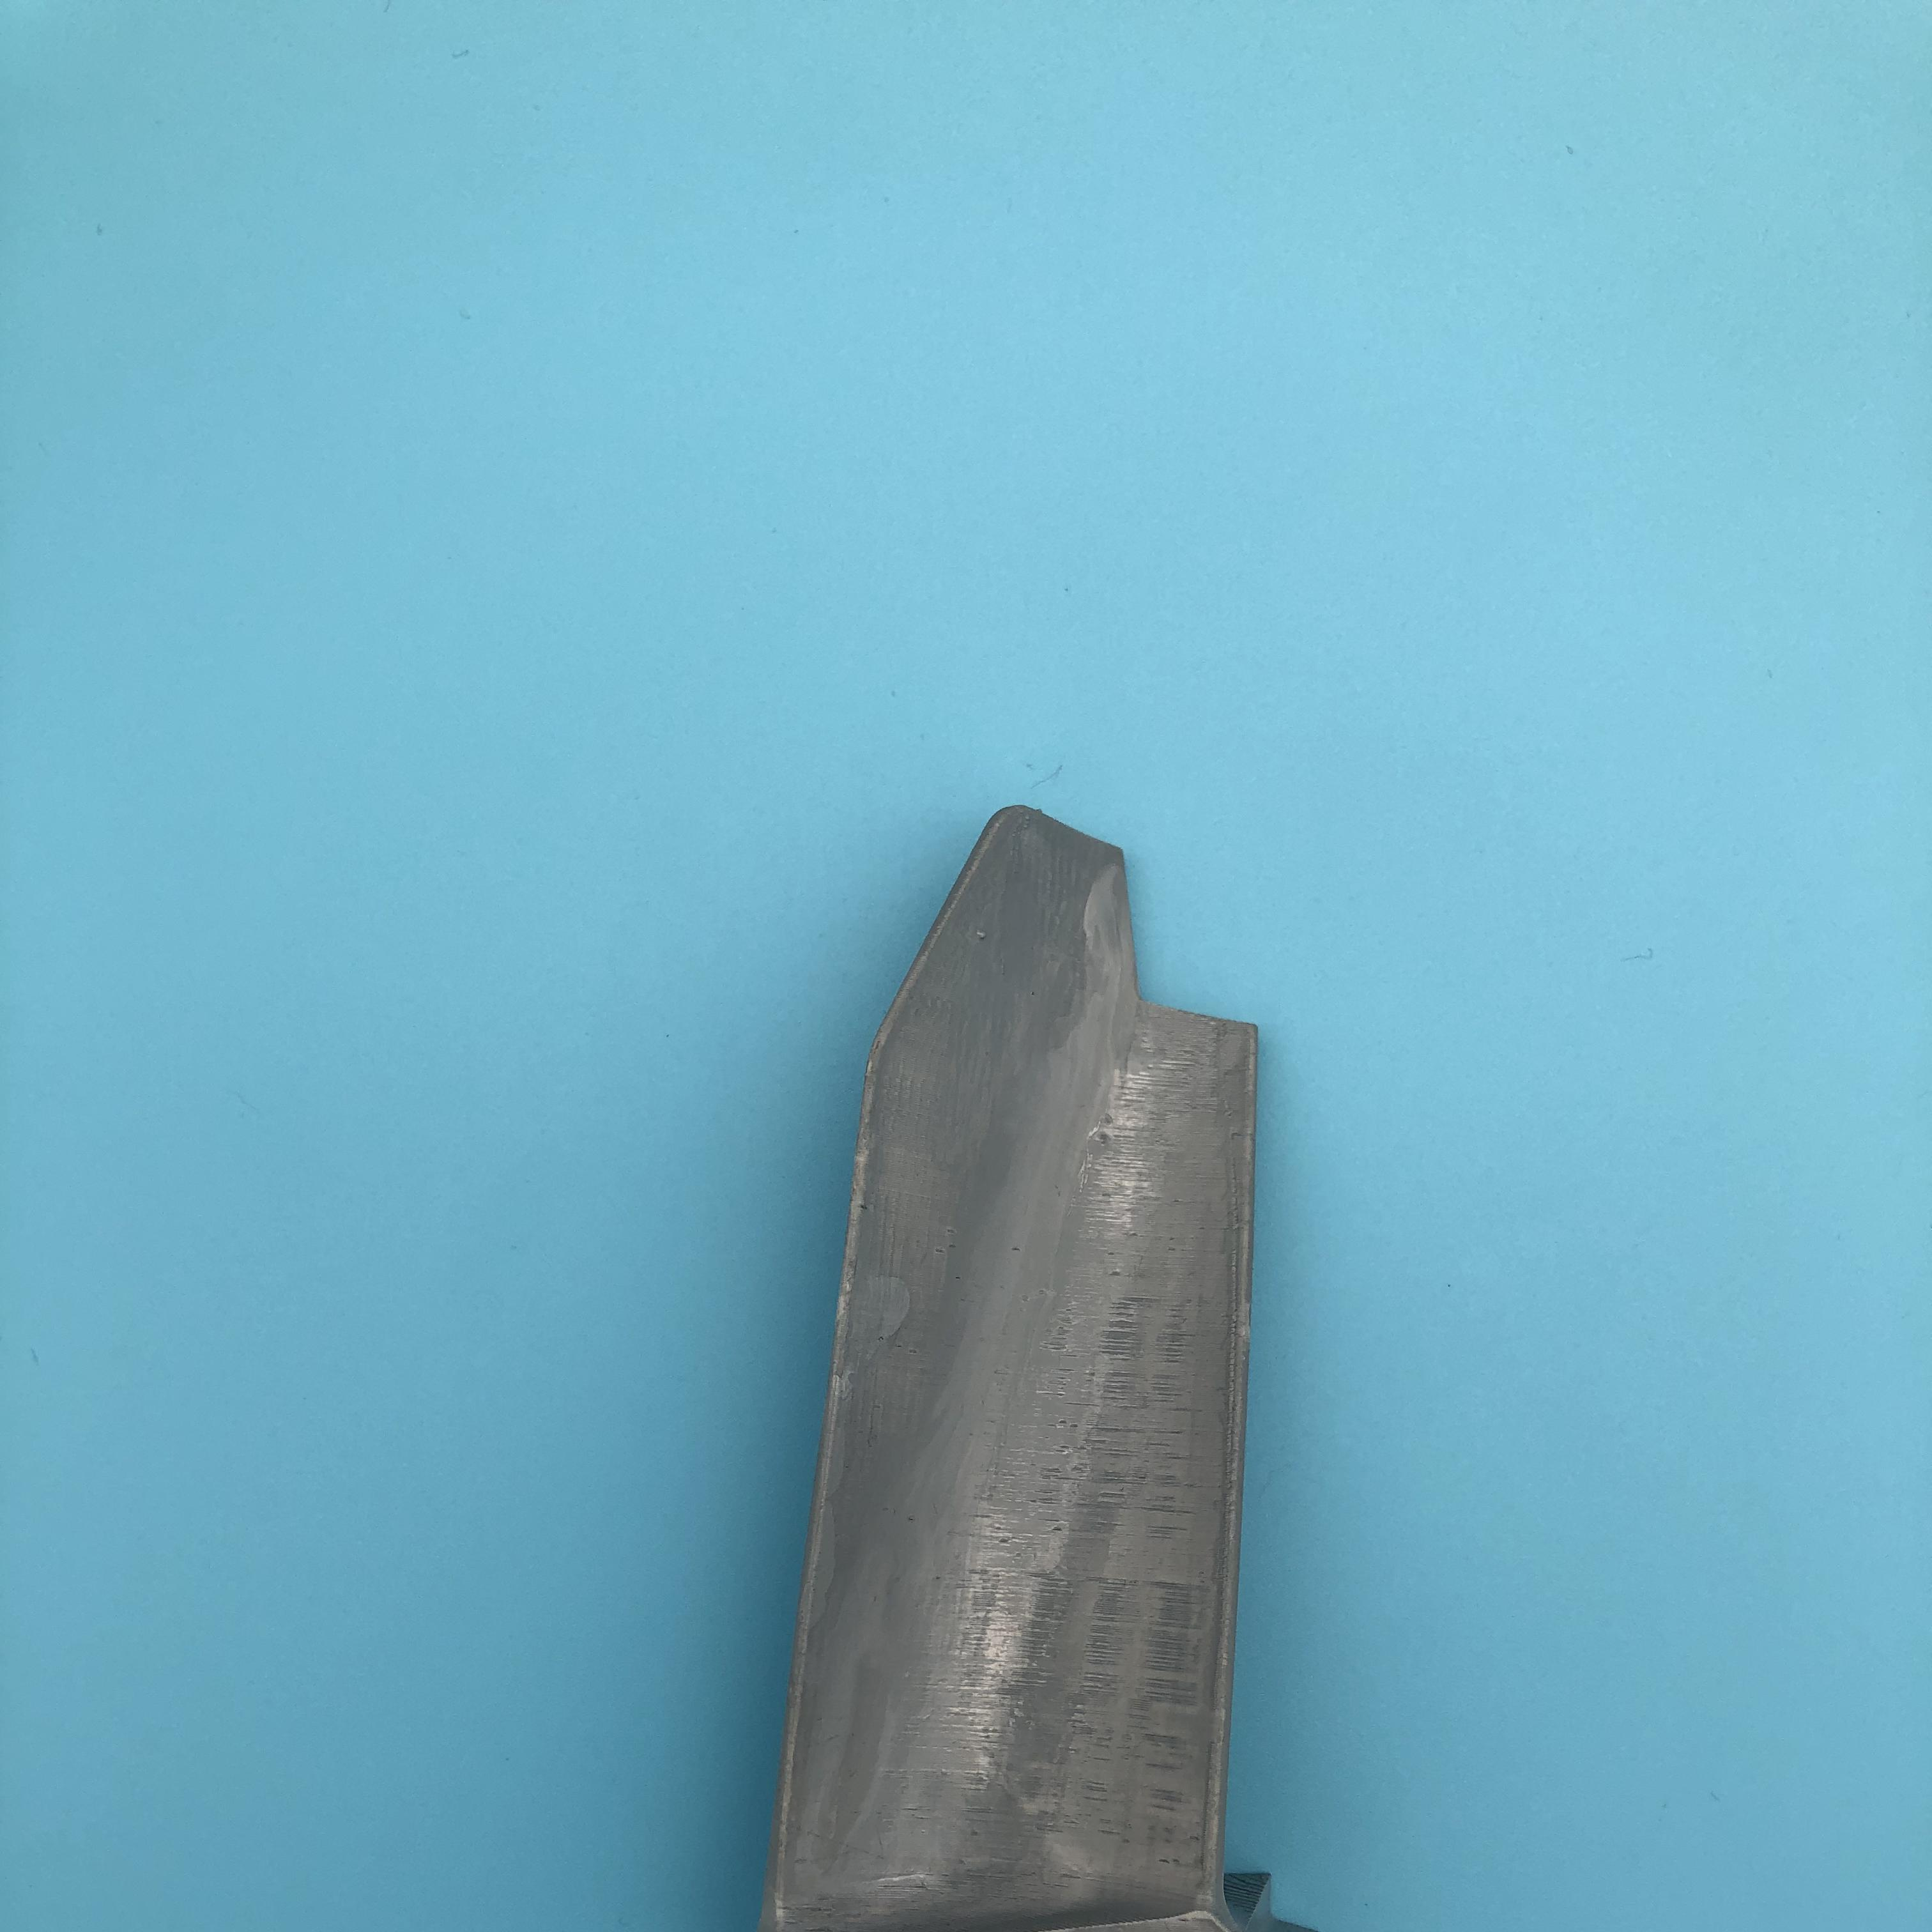fracture: (1081, 840, 1260, 1046)
